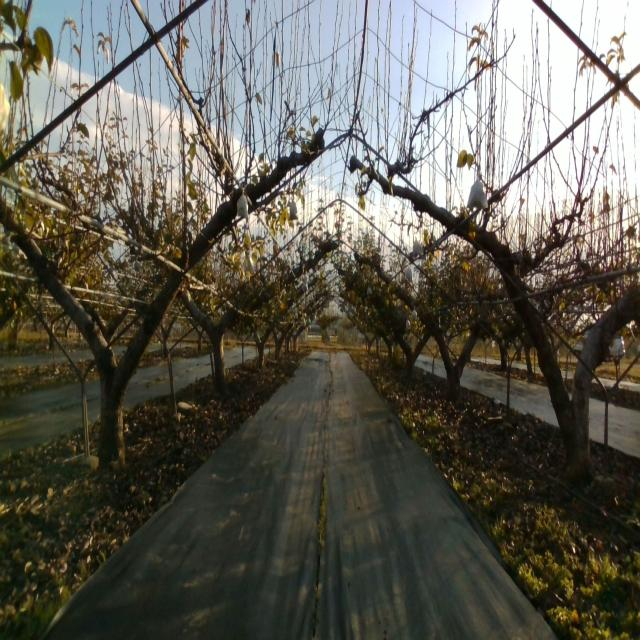pearbags: (466, 172, 488, 209), (236, 185, 249, 220), (411, 235, 424, 258), (288, 198, 298, 221)
